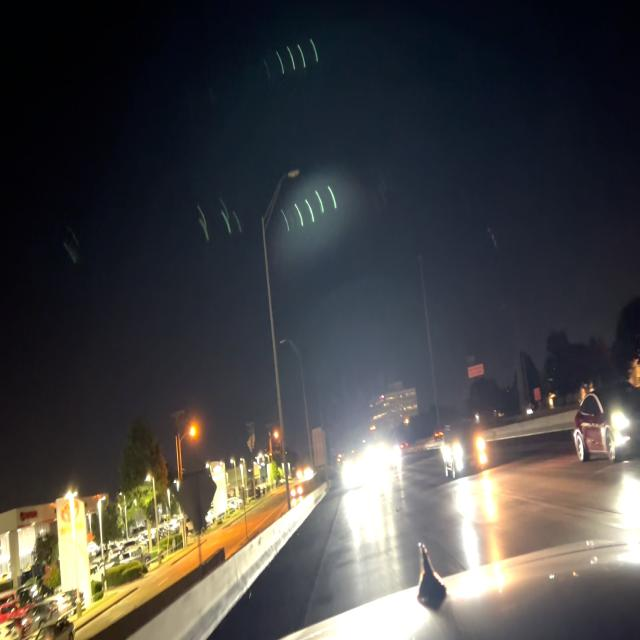back-of-sign: (179, 460, 214, 531)
